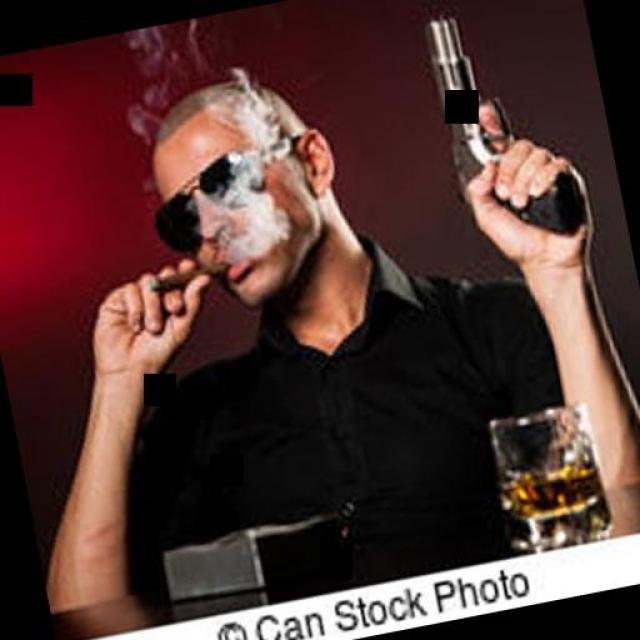gun: (416, 0, 586, 252)
